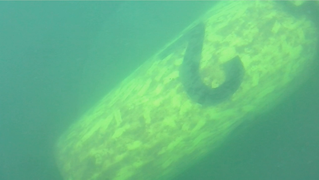2: (157, 21, 245, 107), (224, 112, 264, 145)
pipe: (52, 1, 319, 179)
